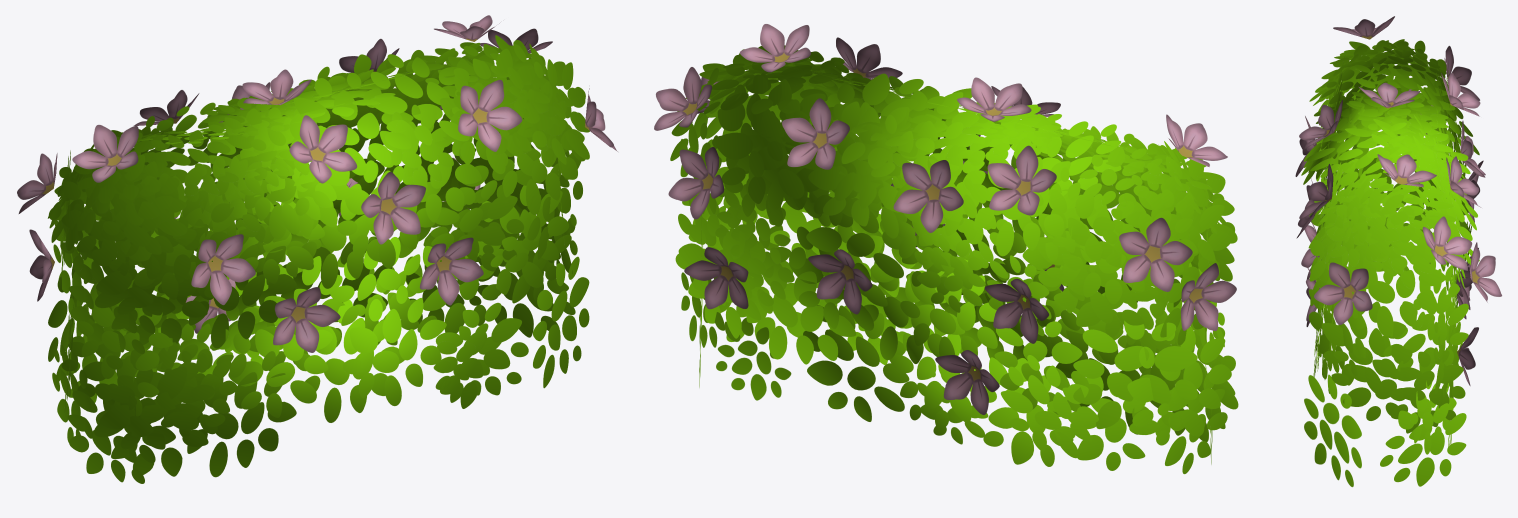
Rendered from Bush_Large_Flowers.gltf.
The picture shows the model from 3 angles, left to right: view 1: azimuth 30°, elevation 25°; view 2: azimuth 150°, elevation 25°; view 3: azimuth 270°, elevation 25°; orthographic projection. The views are drawn at different scales.
Parts seen in each view (by area): view 1: Bush_Large_Flowers; view 2: Bush_Large_Flowers; view 3: Bush_Large_Flowers.
Part boxes in pixels (x1=…): Bush_Large_Flowers: x1=17, y1=15, x2=617, y2=483; Bush_Large_Flowers: x1=654, y1=24, x2=1238, y2=474; Bush_Large_Flowers: x1=1295, y1=16, x2=1501, y2=487.
Size of the model in its own units: 1.93 by 1.26 by 0.7617.
2 materials, 2 textured.
